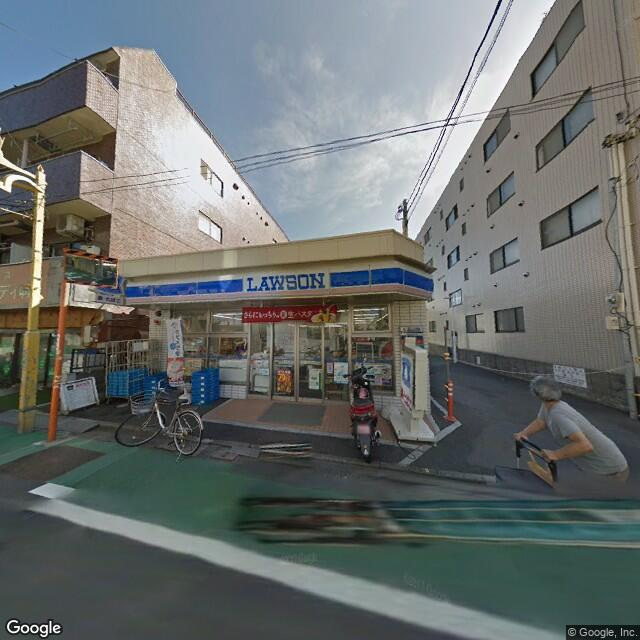lawson: (121, 257, 436, 308)
